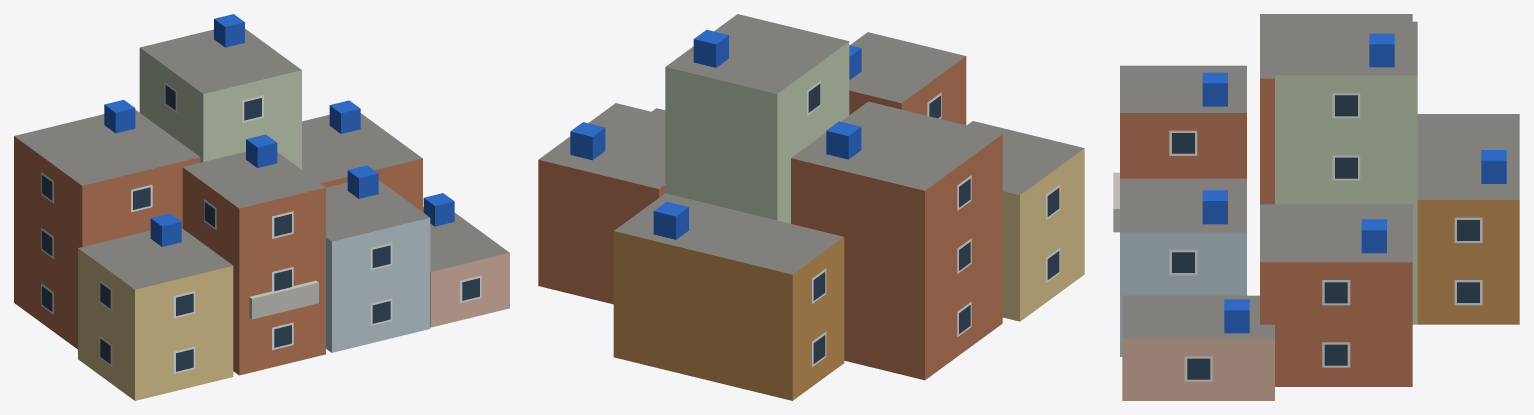
The model's file is favela_colline.glb.
The picture shows the model from 3 angles, left to right: view 1: azimuth 30°, elevation 25°; view 2: azimuth 150°, elevation 25°; view 3: azimuth 270°, elevation 25°; orthographic projection. The views are drawn at different scales.
Parts seen in each view (by area): view 1: favela_colline; view 2: favela_colline; view 3: favela_colline.
Part boxes in pixels (x1,y1,x2,y2): favela_colline: [14, 14, 509, 400]; favela_colline: [538, 14, 1084, 400]; favela_colline: [1113, 14, 1519, 400].
Size of the model in its own units: 19.2 by 11.8 by 15.95.
Materials: 1 (1 with a texture image).
